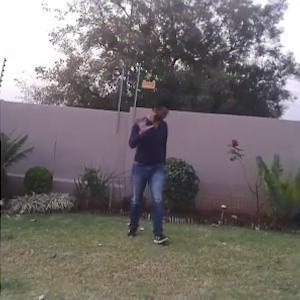follow_hand: (130, 111, 157, 137)
